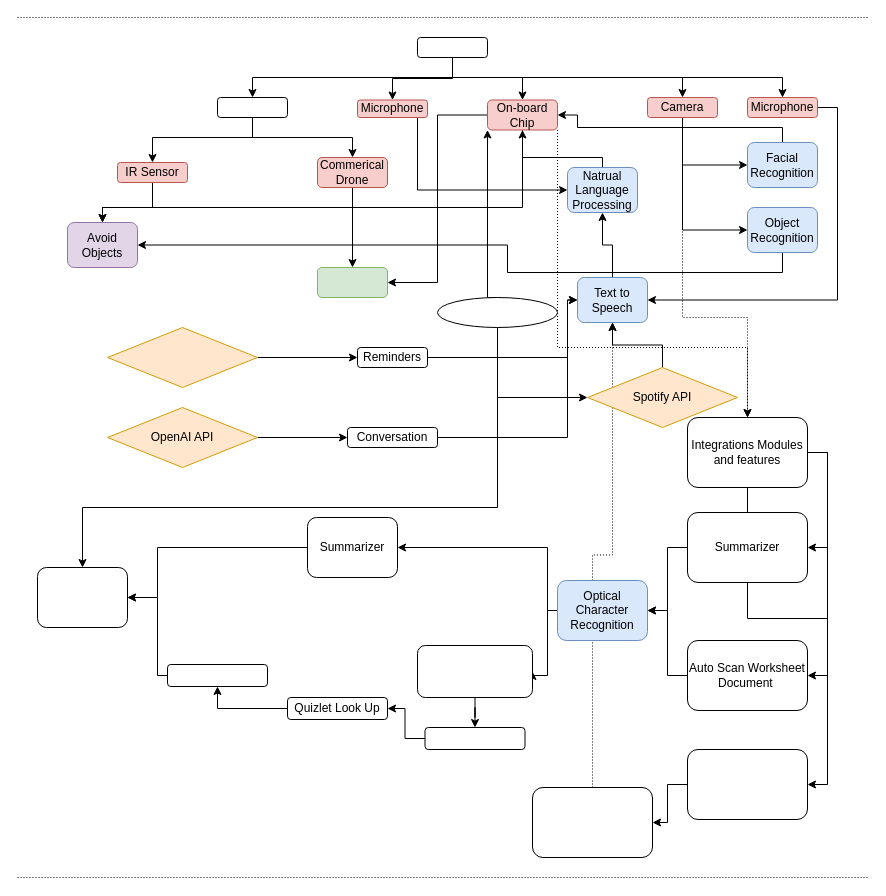
Image size: 886x896. Some labels were removed from this diagram. The shapes that lost their labels are listed below. From the top down, each one's centre as x and y in pixels, then its label:
the point at 452,47: Drone
the point at 252,107: Flying
the point at 352,282: Control Drone
the point at 497,312: Internet Connection
the point at 182,357: Google Calender API
the point at 82,597: Send/email/print info
the point at 217,675: API Decipher
the point at 474,671: Specific Chemistry/Math Formulas extraction
the point at 474,738: Laytex Format
the point at 747,784: Emotion Detection
the point at 592,822: Facial Reconition and mood detection
